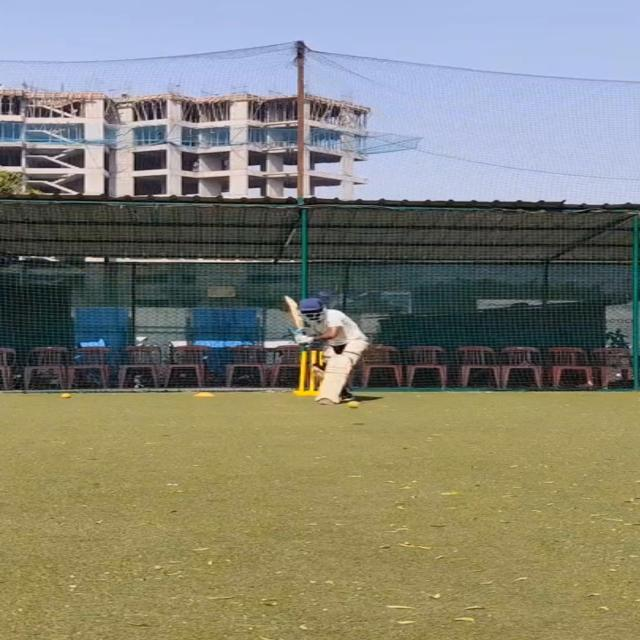ball: (347, 400, 361, 410)
stump: (296, 349, 326, 396)
